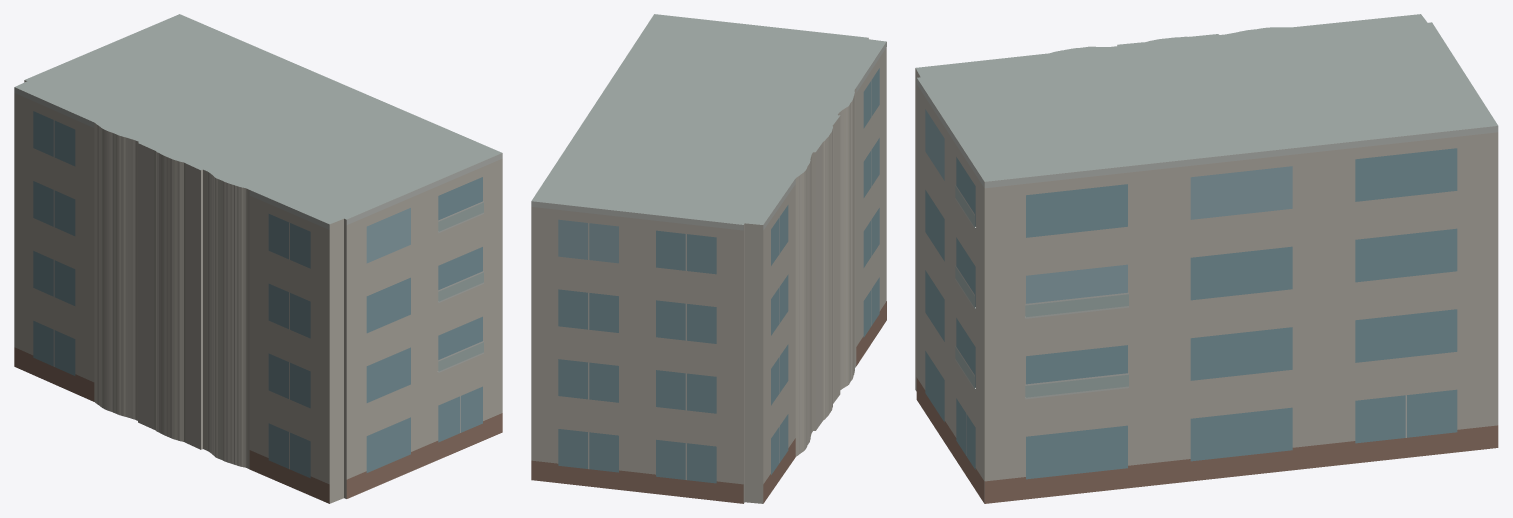
The model's file is survey-upis-32654364.glb.
3 views of the same model, side by side, from view 1: azimuth 30°, elevation 25°; view 2: azimuth 150°, elevation 25°; view 3: azimuth 270°, elevation 25° (orthographic). The views are drawn at different scales.
Visible parts, largest first — view 1: survey-upis-32654364.tmp; view 2: survey-upis-32654364.tmp; view 3: survey-upis-32654364.tmp.
Boxes of the visible parts, box(x1,y1,x2,y2) form: survey-upis-32654364.tmp: box(14, 14, 502, 503); survey-upis-32654364.tmp: box(531, 14, 886, 503); survey-upis-32654364.tmp: box(915, 14, 1498, 503).
Bounding box in the file's own units: 13.65 × 12.2 × 20.03.
